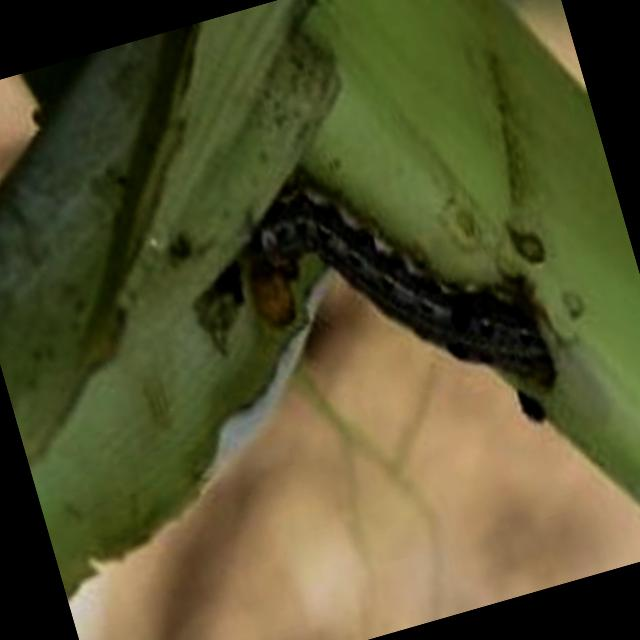Tobacco cutworm: (106, 64, 618, 566)
